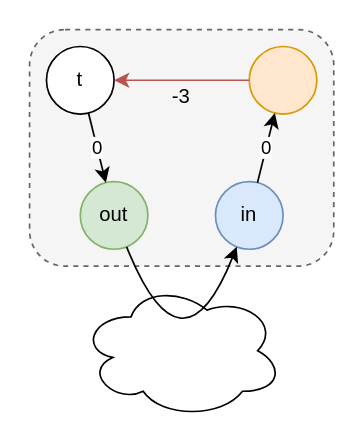
The diagram is 363 pixels wide and 448 high, and some of its shapes have lost their labels. The shapes that lost their labels are listed below. From the top down, each one's box as (x1, y1, x2, y2) in pixels, then its label:
(248, 45, 317, 114): state
(79, 281, 283, 418): at most latency 3
